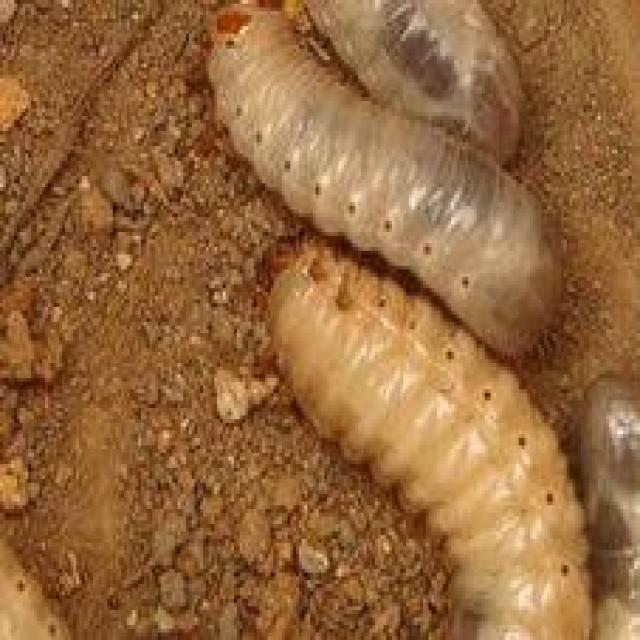Grub-Adult-: (246, 236, 597, 636), (204, 7, 562, 360)
